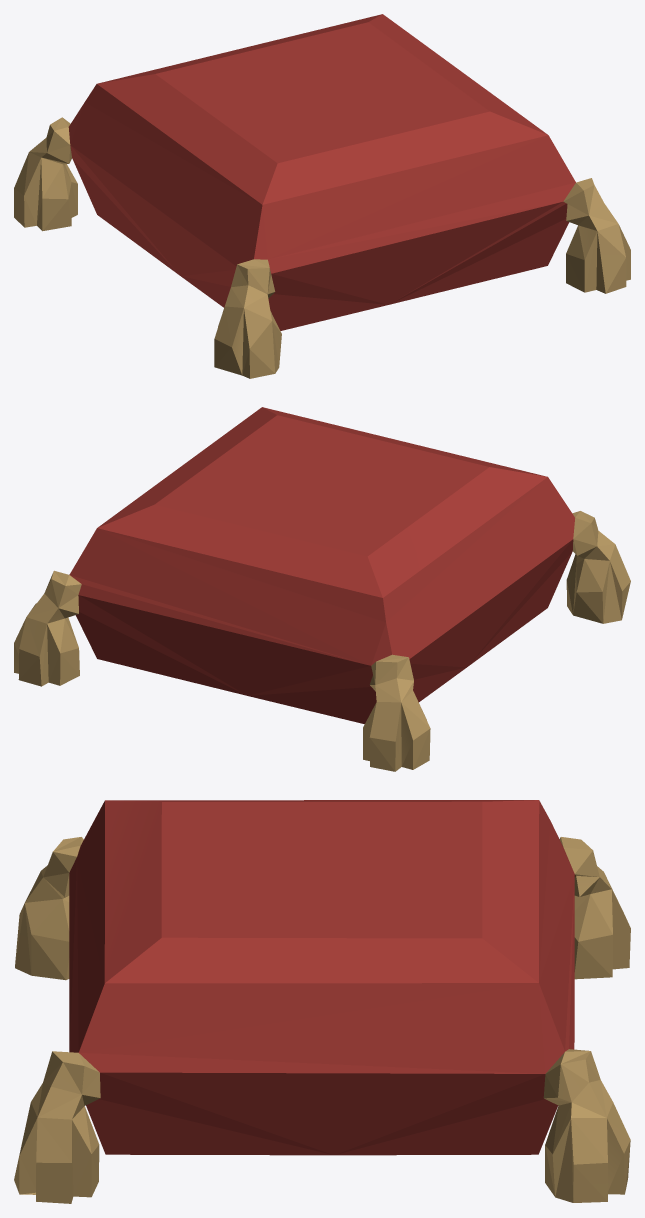
The model's file is mdvl_interiors_cushion_01.glb.
3 renders of one model, top to bottom at view 1: azimuth 30°, elevation 25°; view 2: azimuth 150°, elevation 25°; view 3: azimuth 270°, elevation 25°, orthographic. The views are drawn at different scales.
Visible parts, largest first — view 1: mdvl_interiors_cushion_01; view 2: mdvl_interiors_cushion_01; view 3: mdvl_interiors_cushion_01.
Boxes of the visible parts, left/top/right/bottom form: mdvl_interiors_cushion_01: left=14, top=14, right=630, bottom=378; mdvl_interiors_cushion_01: left=14, top=407, right=630, bottom=771; mdvl_interiors_cushion_01: left=14, top=800, right=630, bottom=1203.
Size of the model in its own units: 0.4 by 0.1476 by 0.3996.
1 material, 1 textured.
